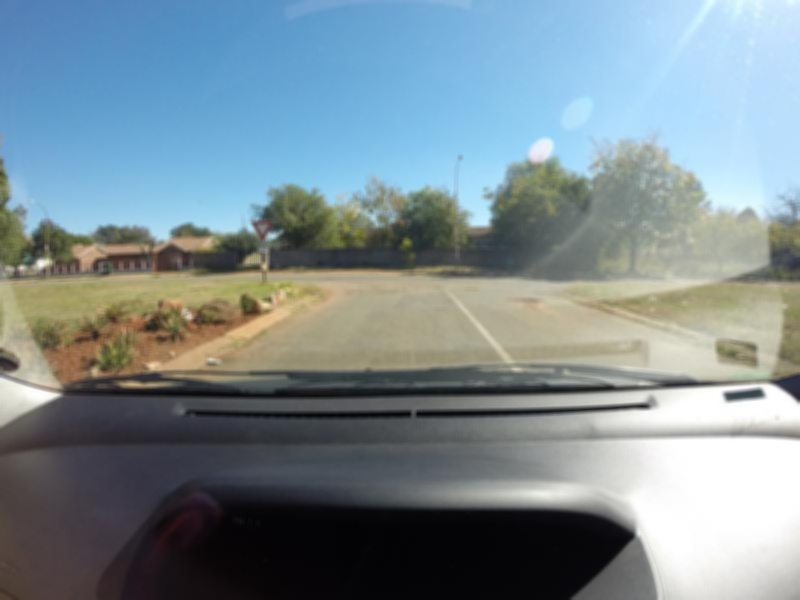pothole: (507, 292, 548, 305)
